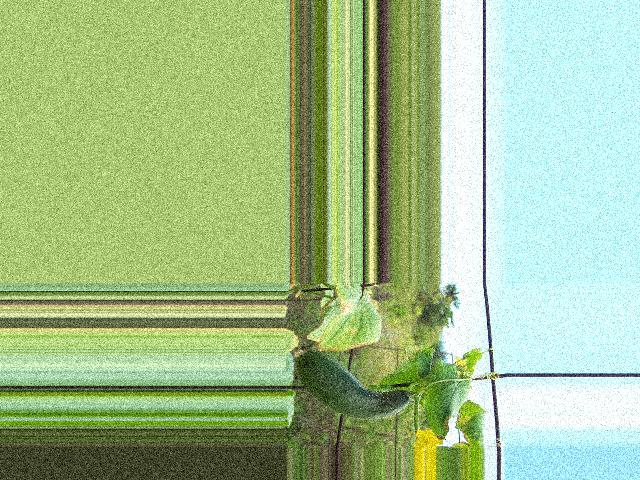cucumber: (296, 349, 411, 419)
